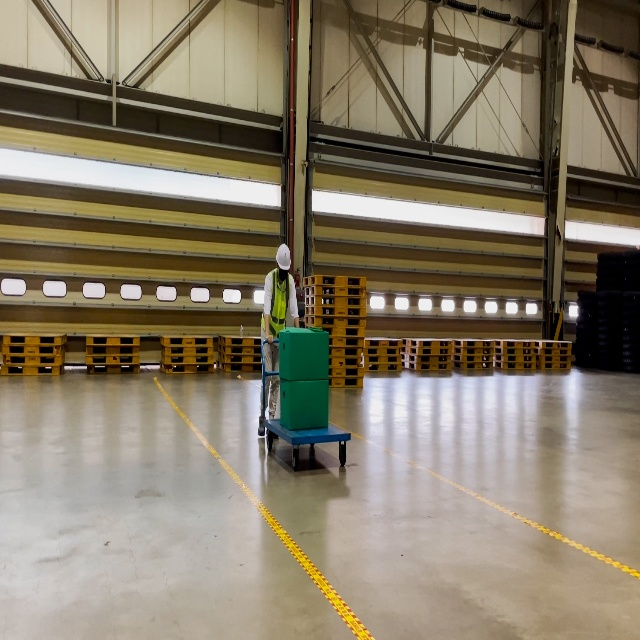Box: (279, 327, 329, 381), (280, 377, 329, 431)
Worker: (257, 244, 300, 438)
